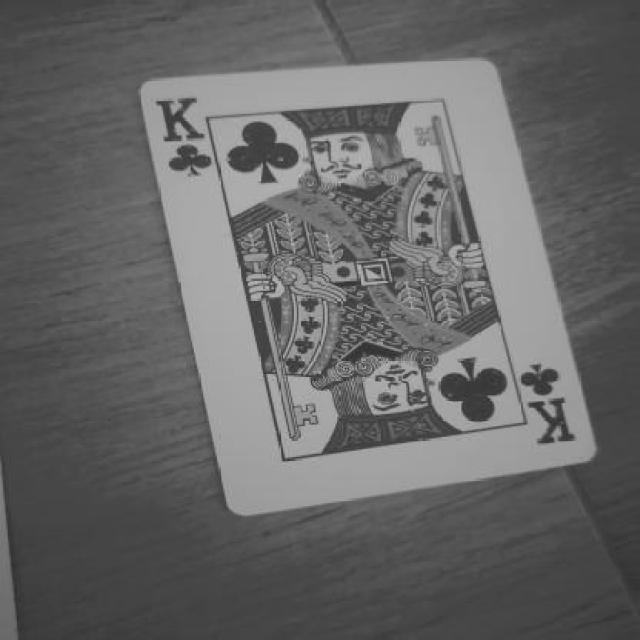KC: (153, 80, 230, 191), (508, 352, 586, 460)
